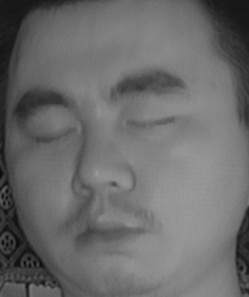blink: (127, 105, 181, 144), (29, 117, 79, 151)
mouth: (68, 203, 154, 258)
